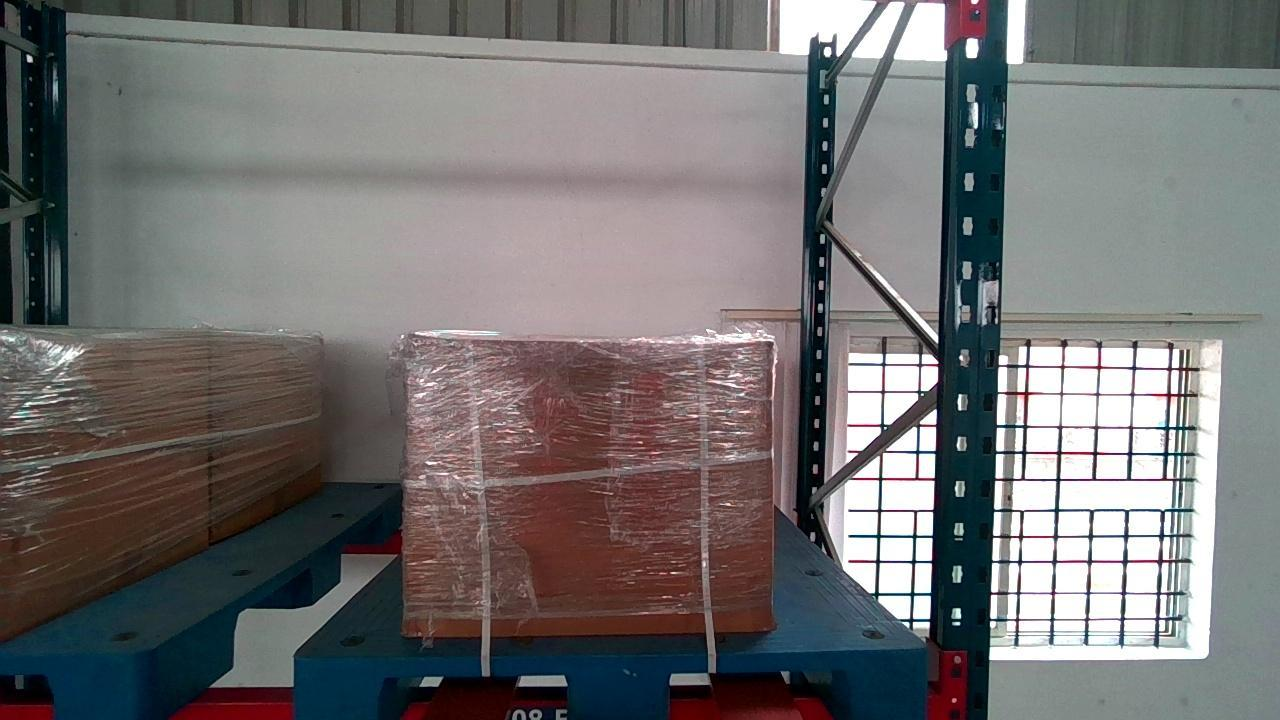small_pallet: (295, 646, 926, 720)
